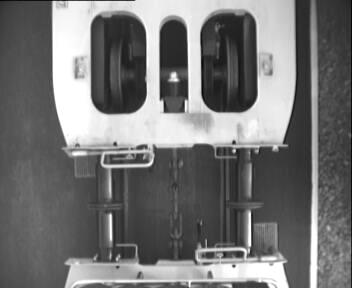Copy of Copy of wagon_scan: (84, 4, 264, 117)
